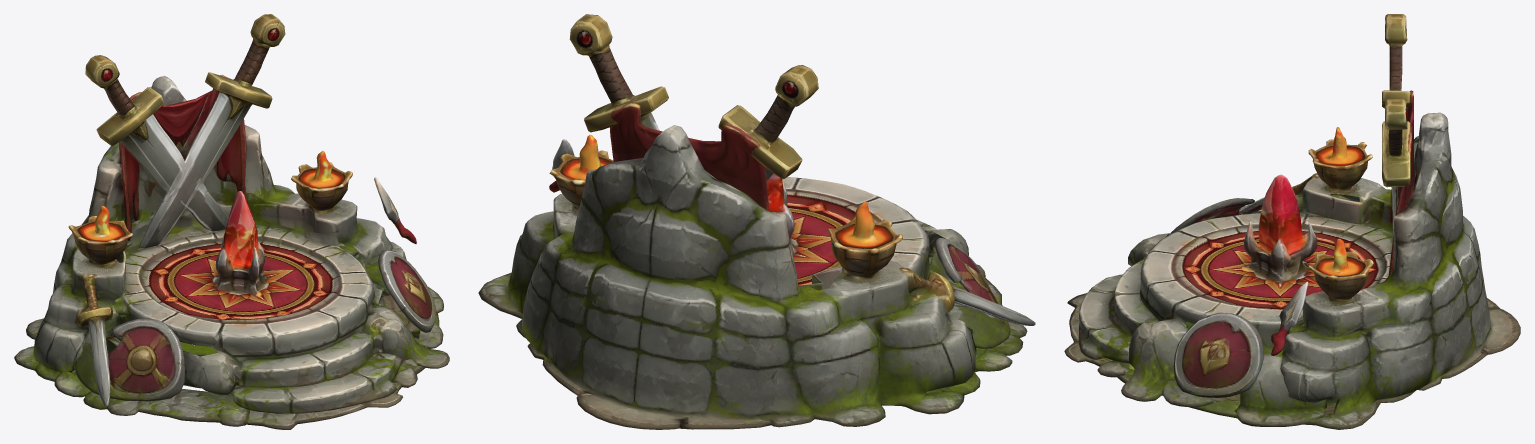
The model's file is combat.glb.
3 views of the same model, side by side, from view 1: azimuth 30°, elevation 25°; view 2: azimuth 150°, elevation 25°; view 3: azimuth 270°, elevation 25° (orthographic). The views are drawn at different scales.
Bounding box in the file's own units: 1.85 × 1.21 × 1.83.
1 material, 1 textured.
